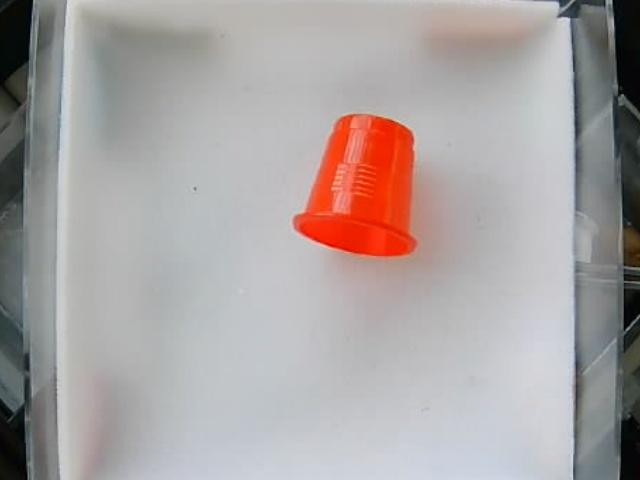Cup: (287, 114, 424, 256)
